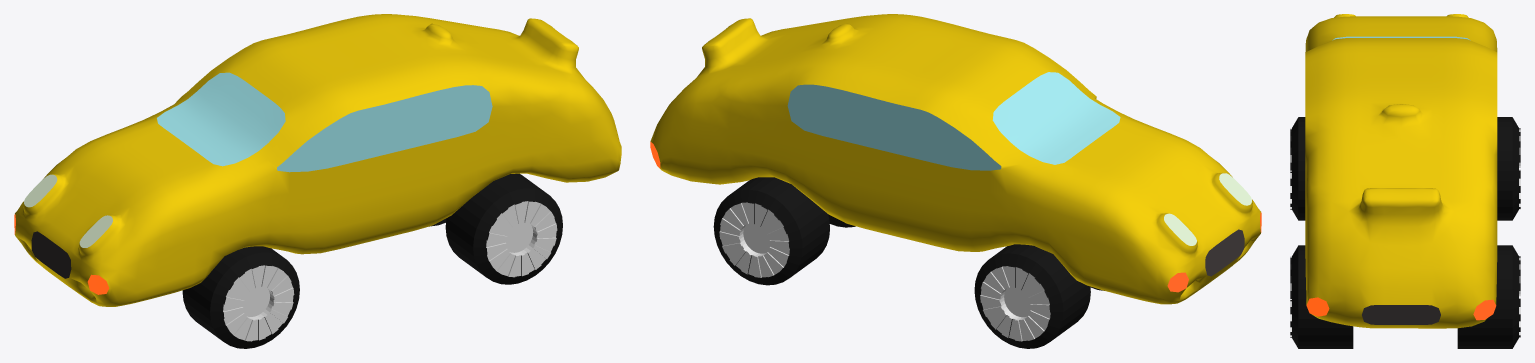
File: car.fbx
The picture shows the model from 3 angles, left to right: view 1: azimuth 30°, elevation 25°; view 2: azimuth 150°, elevation 25°; view 3: azimuth 270°, elevation 25°; orthographic projection.
Visible parts, largest first — view 1: car, tire.002, tire; view 2: car, tire.003, tire.001; view 3: car, tire.003, tire.002, tire.001, tire.
Part boxes in pixels (bbox=[...]): car: bbox=[14, 14, 621, 306]; tire.002: bbox=[445, 173, 562, 284]; tire: bbox=[182, 246, 299, 348]; car: bbox=[650, 14, 1261, 304]; tire.003: bbox=[713, 177, 829, 285]; tire.001: bbox=[974, 244, 1090, 348]; car: bbox=[1305, 14, 1497, 328]; tire.003: bbox=[1457, 245, 1520, 348]; tire.002: bbox=[1290, 245, 1353, 348]; tire.001: bbox=[1497, 117, 1520, 220]; tire: bbox=[1290, 117, 1305, 220].
Bounding box in the file's own units: 486 × 191 × 177.
